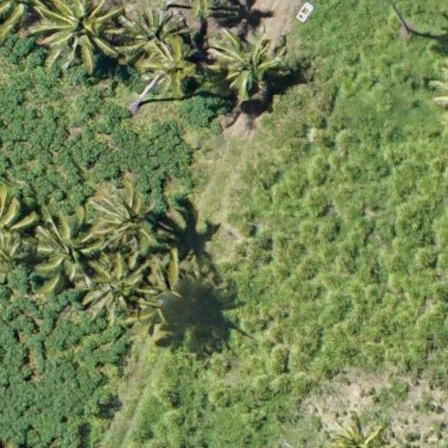palm_tree: (209, 29, 281, 103), (41, 1, 119, 67), (89, 251, 153, 322), (34, 214, 91, 289), (86, 189, 151, 252), (141, 37, 195, 95)
